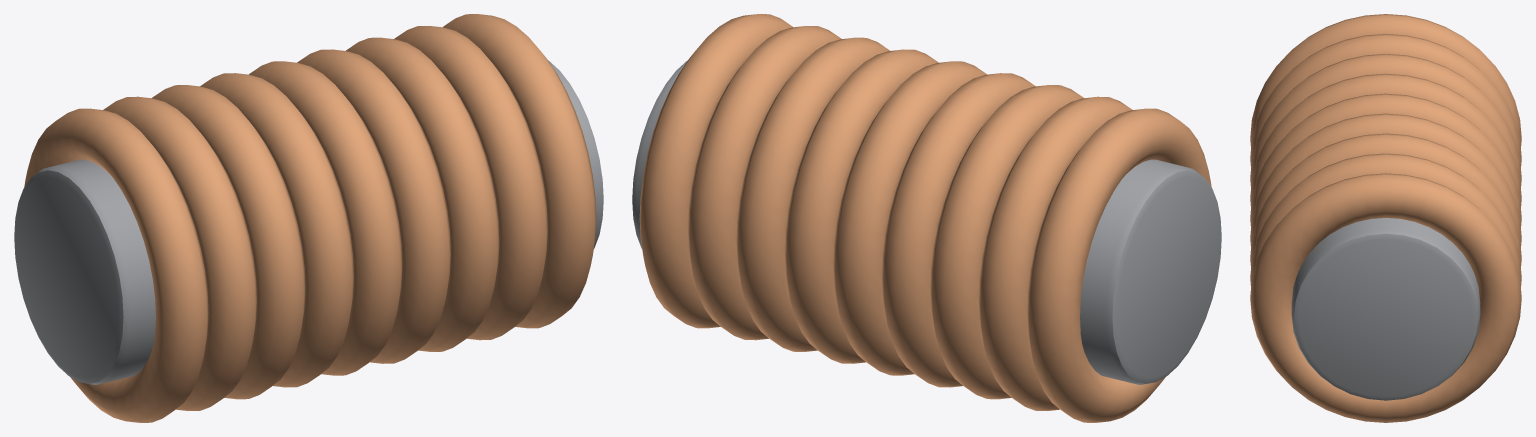
Rendered from coil.glb.
The picture shows the model from 3 angles, left to right: view 1: azimuth 30°, elevation 25°; view 2: azimuth 150°, elevation 25°; view 3: azimuth 270°, elevation 25°; orthographic projection. The views are drawn at different scales.
Parts seen in each view (by area): view 1: core, turn0, turn4, turn8, turn6, turn5, turn2, turn3, turn7, turn1; view 2: core, turn0, turn4, turn8, turn6, turn5, turn2, turn3, turn7, turn1; view 3: core, turn8, turn0, turn7, turn1, turn2, turn3, turn4, turn6, turn5.
Boxes of the visible parts, box(x1,y1,x2,y2) form: core: box(14, 60, 603, 384); turn0: box(24, 108, 208, 422); turn4: box(249, 61, 402, 375); turn8: box(443, 14, 596, 328); turn6: box(346, 37, 499, 351); turn5: box(297, 49, 450, 363); turn2: box(152, 85, 305, 399); turn3: box(200, 73, 353, 387); turn7: box(394, 26, 547, 340); turn1: box(103, 96, 256, 410); core: box(632, 60, 1221, 384); turn0: box(1027, 108, 1211, 422); turn4: box(833, 61, 986, 375); turn8: box(639, 14, 792, 328); turn6: box(736, 37, 889, 351); turn5: box(785, 49, 938, 363); turn2: box(930, 85, 1083, 399); turn3: box(882, 73, 1035, 387); turn7: box(688, 26, 841, 340); turn1: box(979, 96, 1132, 410); core: box(1291, 218, 1480, 400); turn8: box(1250, 173, 1521, 422); turn0: box(1250, 14, 1521, 147); turn7: box(1250, 153, 1521, 286); turn1: box(1250, 34, 1521, 166); turn2: box(1250, 54, 1521, 186); turn3: box(1250, 73, 1521, 206); turn4: box(1250, 93, 1521, 226); turn6: box(1250, 133, 1521, 266); turn5: box(1250, 113, 1521, 246).
Size of the model in its own units: 0.25 by 0.144 by 0.144.
